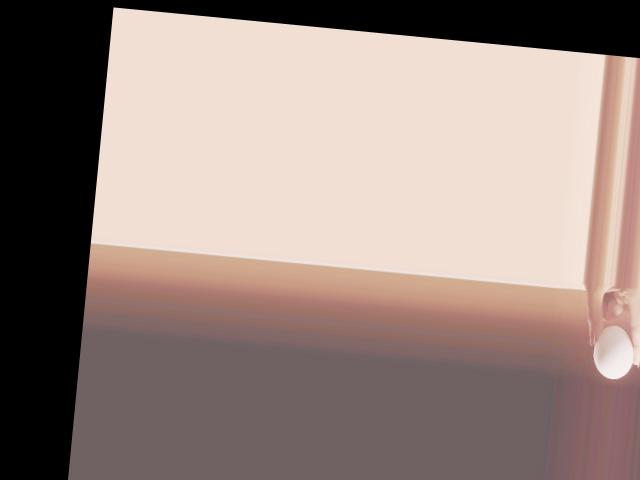egg: (590, 323, 636, 380)
